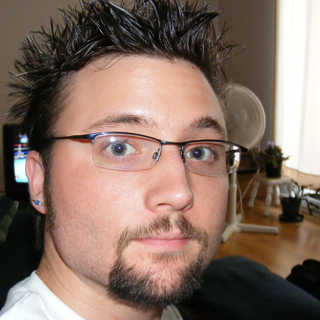eye: (94, 136, 145, 162), (178, 142, 223, 167)
